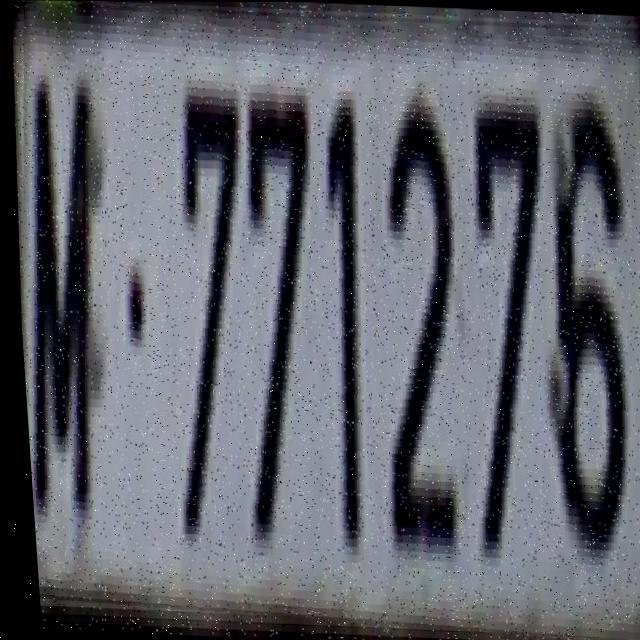LicensePlate: (0, 1, 640, 640)
